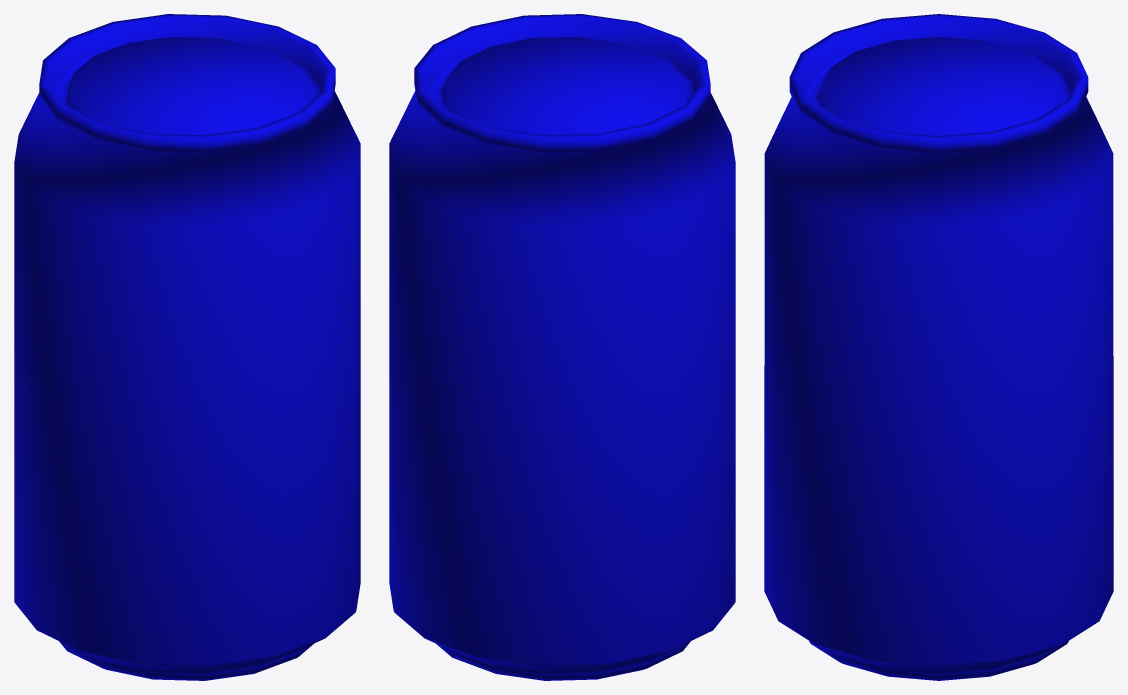
File: can.fbx
The picture shows the model from 3 angles, left to right: view 1: azimuth 30°, elevation 25°; view 2: azimuth 150°, elevation 25°; view 3: azimuth 270°, elevation 25°; orthographic projection.
Visible parts, largest first — view 1: Plane; view 2: Plane; view 3: Plane.
Boxes of the visible parts, <box> form: Plane: <box>14,14,360,680</box>; Plane: <box>389,14,735,680</box>; Plane: <box>764,14,1113,680</box>.
Size of the model in its own units: 269 by 466 by 269.
